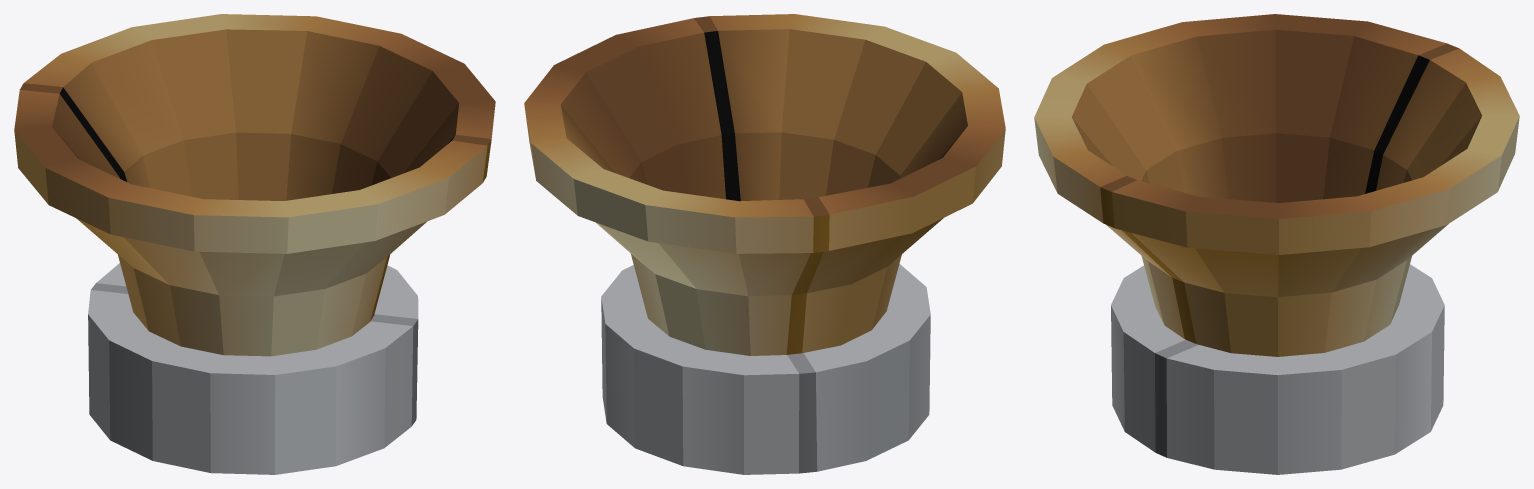
Rendered from HerbertBaseVacuumEnd.glb.
The picture shows the model from 3 angles, left to right: view 1: azimuth 30°, elevation 25°; view 2: azimuth 150°, elevation 25°; view 3: azimuth 270°, elevation 25°; orthographic projection.
Parts seen in each view (by area): view 1: HerbertBaseVacuumEnd; view 2: HerbertBaseVacuumEnd; view 3: HerbertBaseVacuumEnd.
Boxes of the visible parts, box(x1,y1,x2,y2) form: HerbertBaseVacuumEnd: box(14, 14, 495, 474); HerbertBaseVacuumEnd: box(524, 14, 1005, 474); HerbertBaseVacuumEnd: box(1034, 14, 1519, 474).
Size of the model in its own units: 1.08 by 0.7103 by 1.08.
